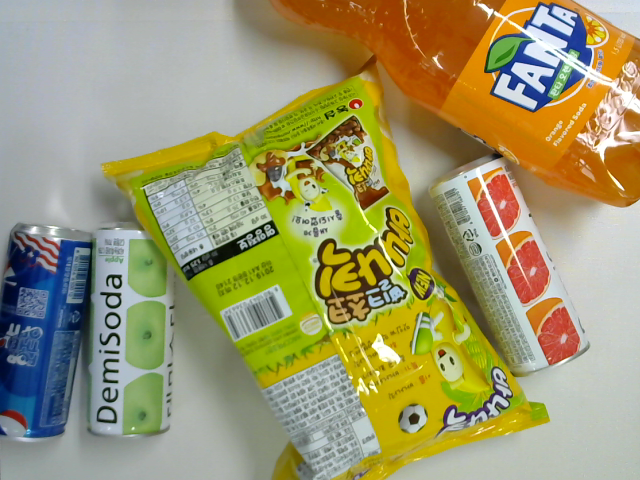Banana_Kick: (103, 54, 550, 479)
Demisoda_Apple_Can_250ml: (86, 221, 172, 438)
Demisoda_Grapefruit_Can_250ml: (429, 151, 592, 376)
Hwanta_Orange_1.5L: (274, 1, 639, 207)
Pepsi_Cola_Can_250ml: (1, 224, 92, 441)
